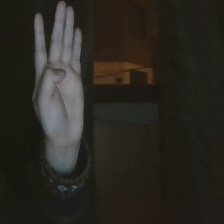B: (28, 1, 88, 148)
